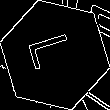L_E: (27, 33, 83, 77)
